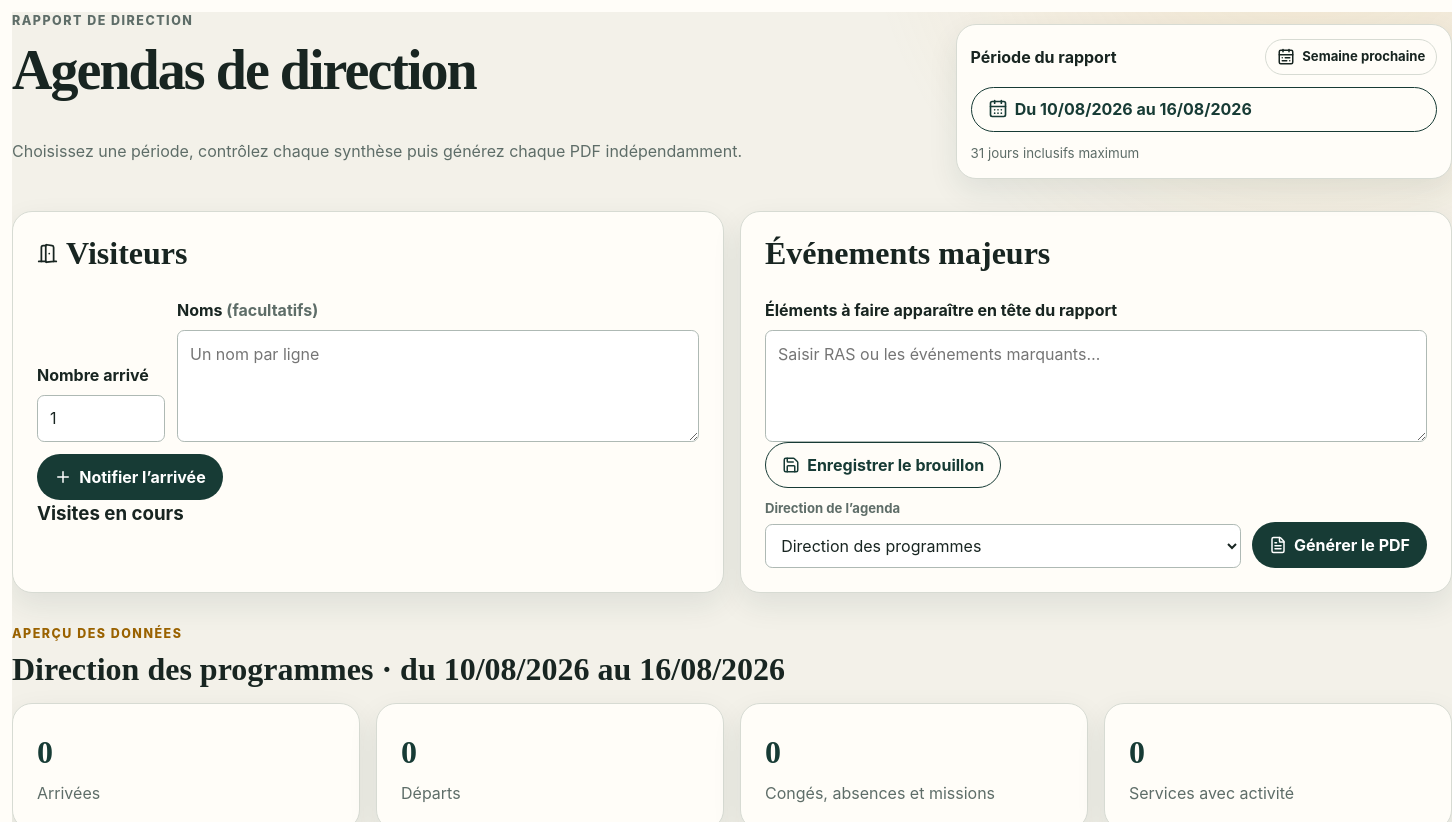
Test case: enregistre une arrivée puis l’affiche parmi les visites en cours
Expected: the heading "Agendas de direction" is shown, [12,39,476,101]
Replace the text in the number field labelled "Nombre arrivé" with "2" at point(101, 418), box [37,395,165,442]
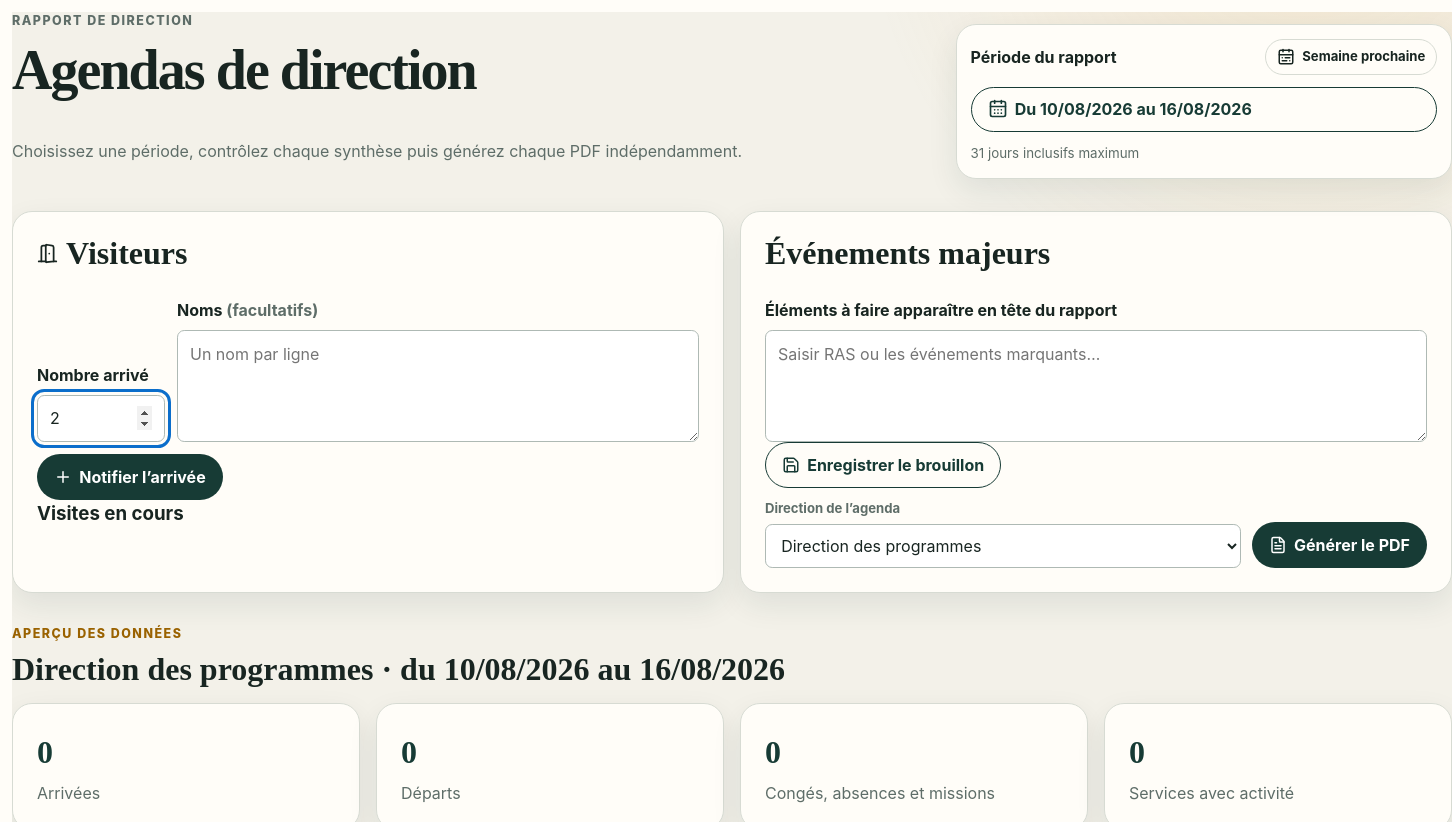
Type "Awa Test" into the text box labelled "Noms (facultatifs)".
click(438, 386); type("Awa Test")  # box [177,330,699,442]
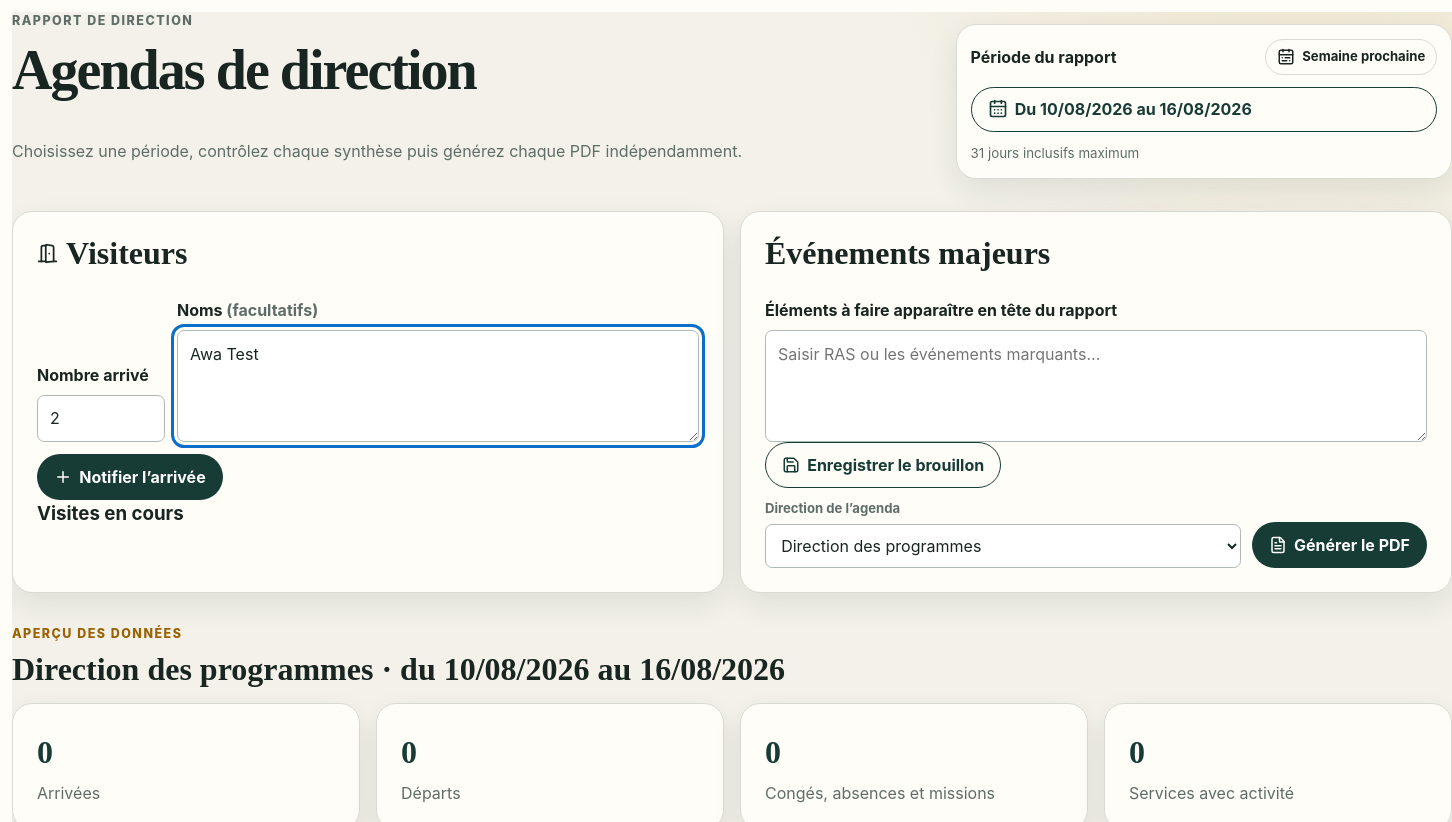
Click the button "Notifier l’arrivée".
click(130, 477)  # box [37,454,223,500]
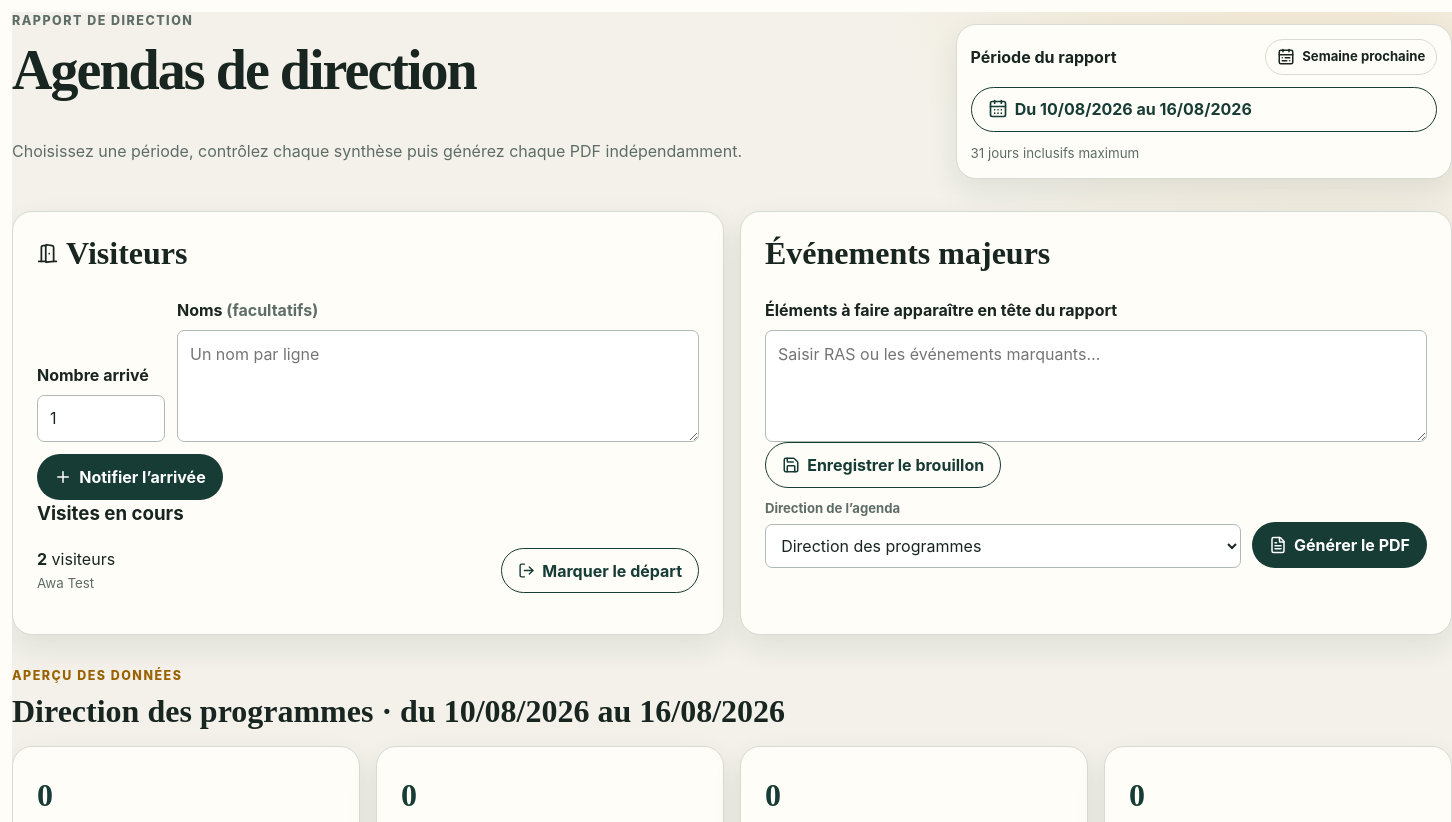
Now the text "Awa Test" is shown, box [37,575,94,591]
Now the button "Marquer le départ" is shown, box [501,548,699,593]
